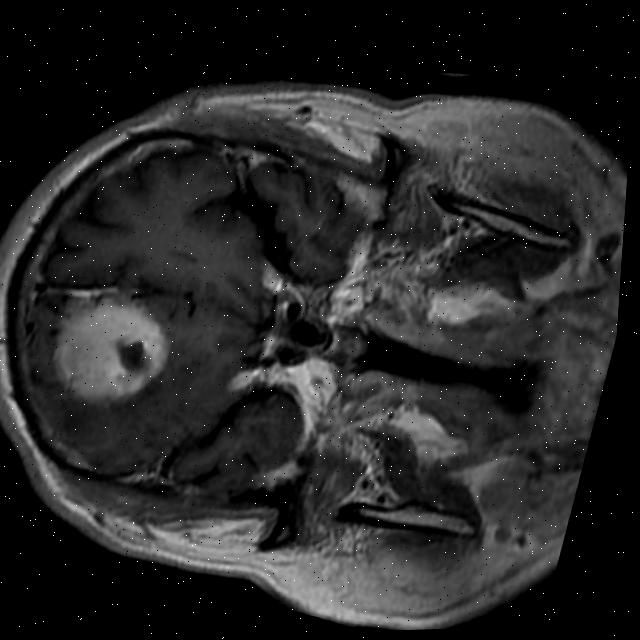Meningioma: (35, 271, 187, 420)
